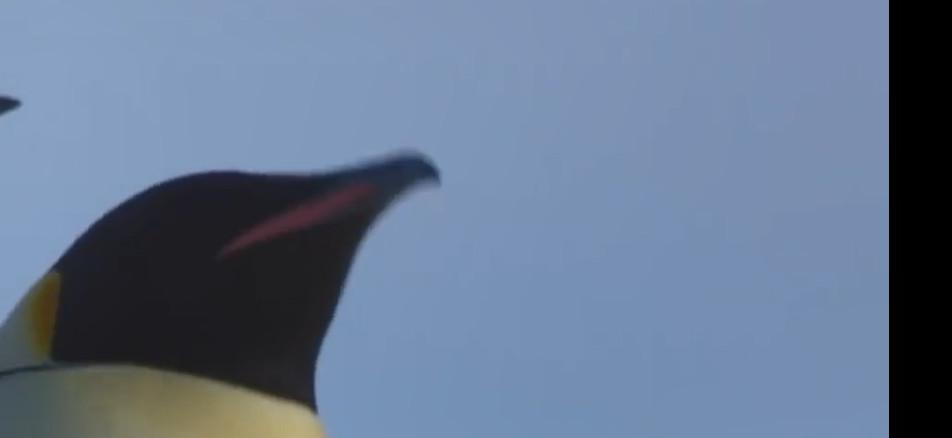Chinstrap Penguin: (489, 118, 489, 119)
Emperor Penguin: (0, 98, 500, 438), (0, 83, 41, 438)
